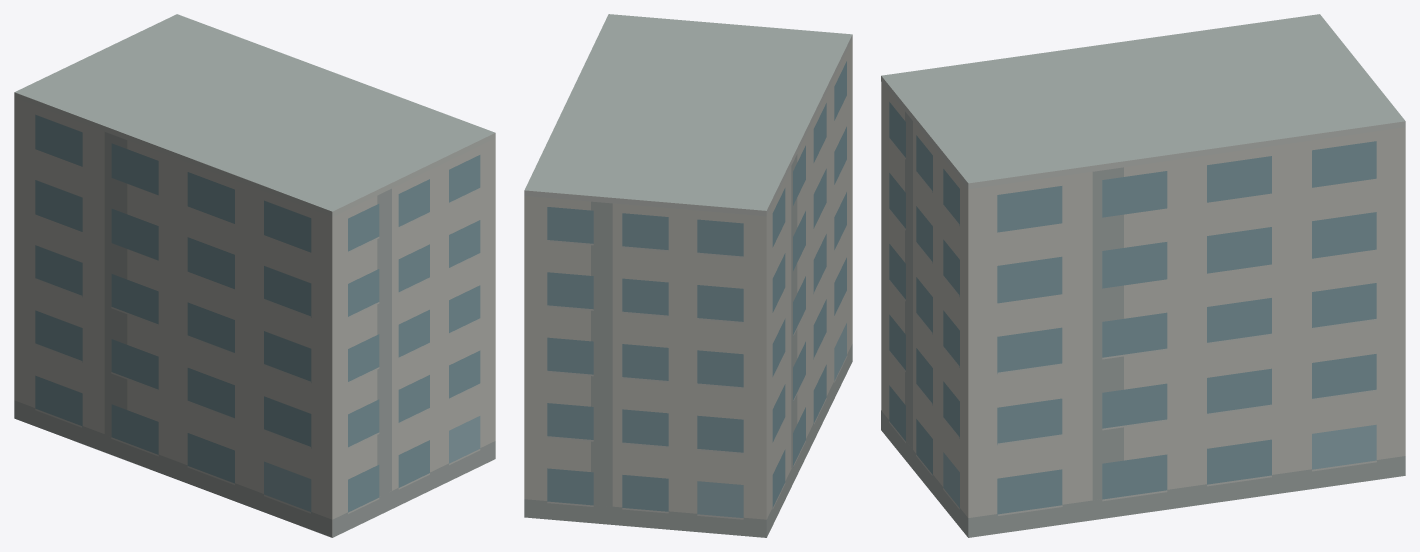
The model's file is survey-upis-32704088.glb.
3 views of the same model, side by side, from view 1: azimuth 30°, elevation 25°; view 2: azimuth 150°, elevation 25°; view 3: azimuth 270°, elevation 25° (orthographic). The views are drawn at different scales.
Visible parts, largest first — view 1: survey-upis-32704088.tmp; view 2: survey-upis-32704088.tmp; view 3: survey-upis-32704088.tmp.
Part boxes in pixels (x1,y1,x2,y2): survey-upis-32704088.tmp: [14, 14, 495, 537]; survey-upis-32704088.tmp: [524, 14, 852, 537]; survey-upis-32704088.tmp: [881, 14, 1405, 537].
Size of the model in its own units: 14.61 by 14.25 by 19.12.
